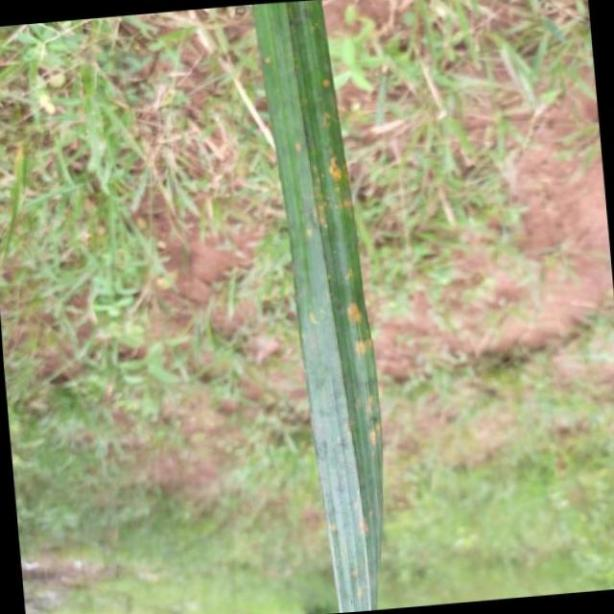Kalium: (257, 0, 387, 614)
